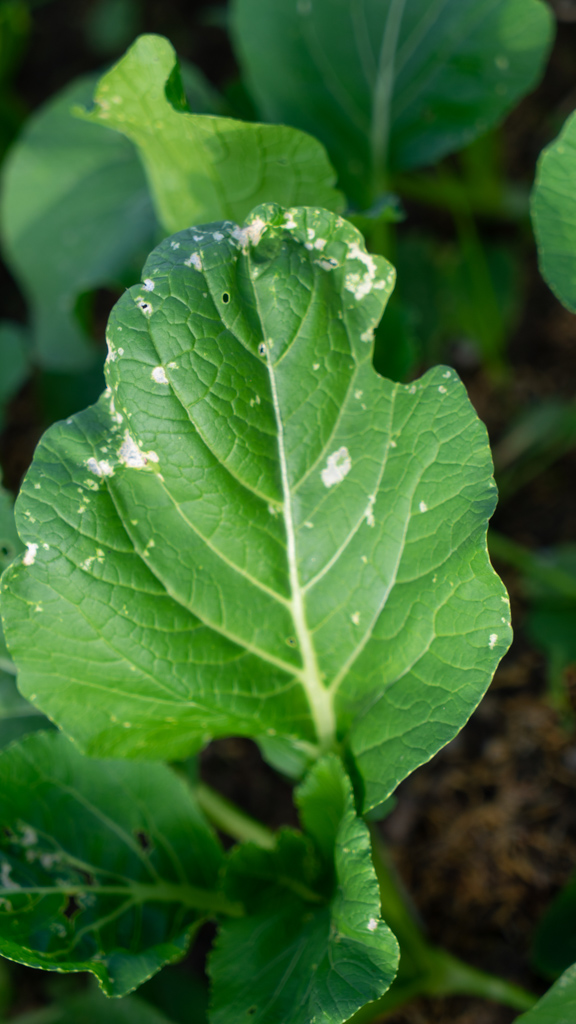Canker: (217, 204, 391, 312), (59, 420, 169, 525), (308, 435, 365, 513), (132, 359, 183, 390)
